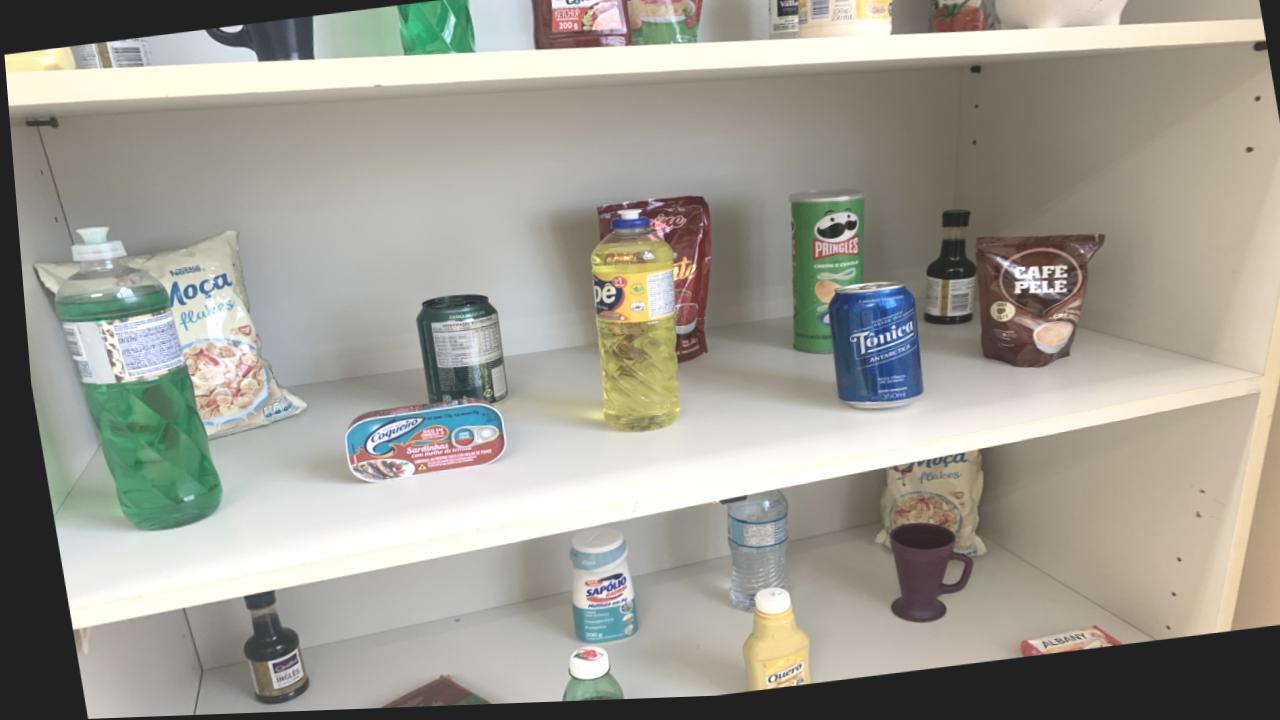Cleaner-Cleanup_Items: (559, 531, 627, 647)
Coffee-Pantry_Items: (970, 242, 1100, 375)
Detergent-Cleanup_Items: (49, 227, 213, 531), (586, 216, 672, 437), (396, 0, 474, 59)
English_Sauce-Pantry_Items: (231, 593, 297, 706), (917, 216, 971, 333), (170, 446, 173, 448)
Flakes-Snacks: (122, 232, 298, 439), (863, 457, 976, 564)
Guarana-Drinks: (367, 679, 480, 711), (549, 649, 612, 705)
Guarana_Can-Drinks: (410, 297, 500, 406), (410, 297, 500, 406)
Ketchup-Pantry_Items: (531, 0, 628, 54)
Mayonnaise-Pantry_Items: (796, 0, 892, 45)
Mustard-Pantry_Items: (731, 593, 799, 697)
Pig_Safe-Miscellaneous: (993, 0, 1131, 38)
Pringles-Snacks: (785, 194, 861, 360)
Soap-Cleanup_Items: (1008, 633, 1111, 664)
Soda-Drinks: (767, 0, 798, 46)
Tomato_Sauce-Pantry_Items: (593, 201, 707, 367), (624, 0, 703, 51), (928, 0, 993, 40)
Tuna_Can-Pantry_Items: (337, 401, 498, 485)
Water_Bottle-Drinks: (713, 496, 778, 617)
